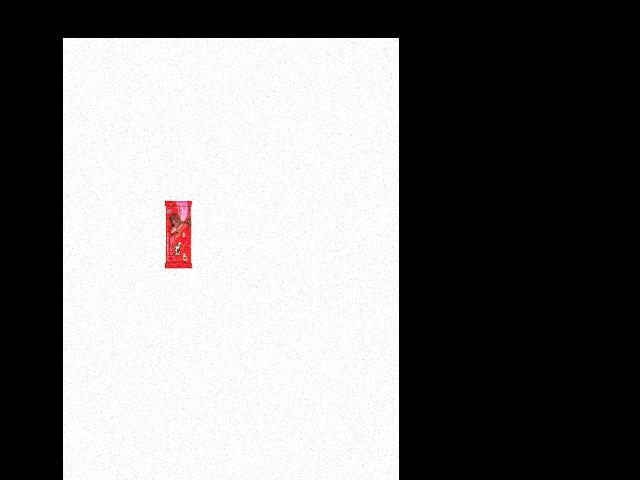chocolate: (160, 200, 191, 273)
